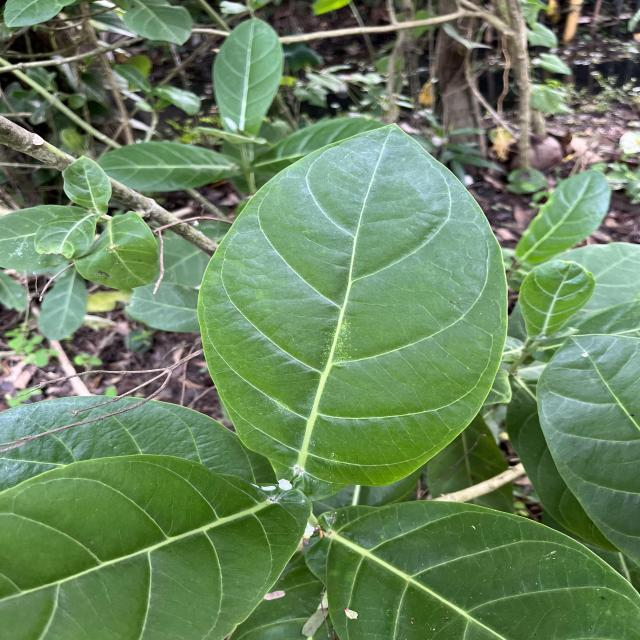Calotropis gigantea: (193, 122, 513, 490), (3, 449, 308, 640), (293, 500, 640, 640), (514, 166, 614, 265), (210, 16, 286, 134), (97, 140, 235, 192)
